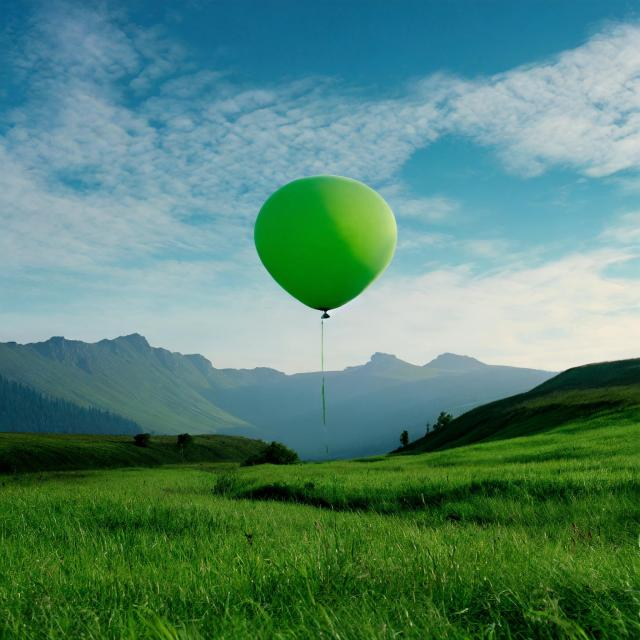green: (256, 175, 400, 324)
